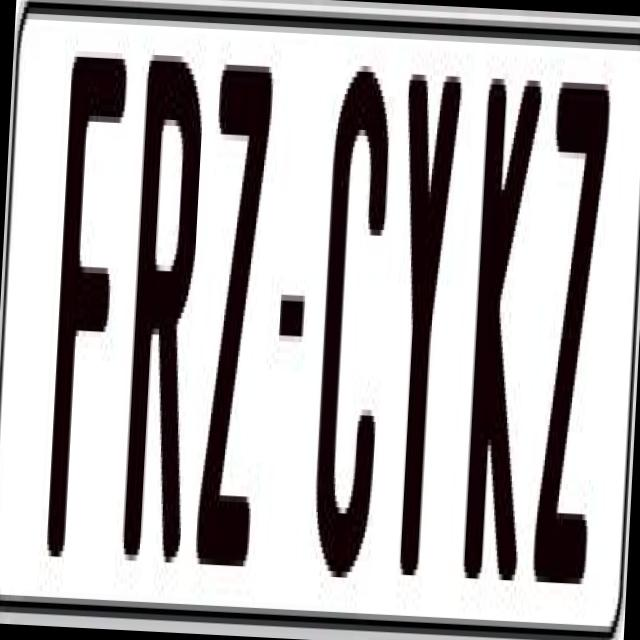C: (307, 70, 392, 608)
F: (46, 45, 126, 553)
K: (460, 72, 550, 610)
R: (122, 49, 216, 564)
Y: (382, 57, 470, 571)
Z: (189, 63, 279, 584), (529, 70, 617, 590)
